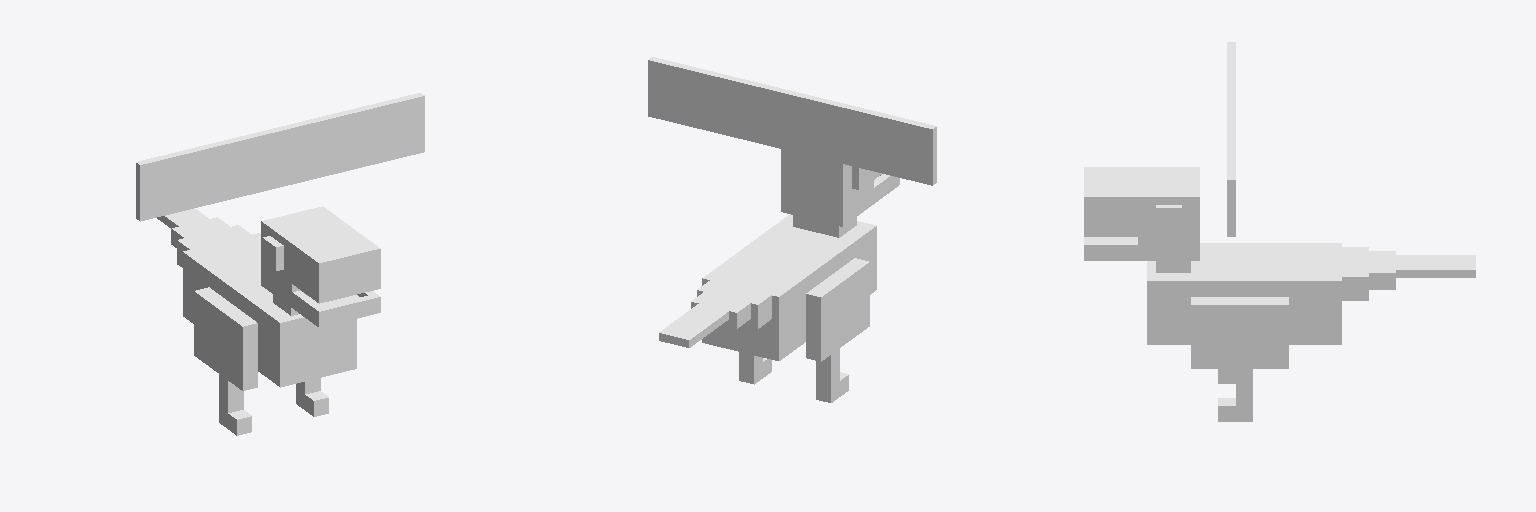
The model's file is dino-q0-c.obj.
3 renders of one model, left to right at view 1: azimuth 30°, elevation 25°; view 2: azimuth 150°, elevation 25°; view 3: azimuth 270°, elevation 25°, orthographic.
Parts seen in each view (by area): view 1: Matrix_8; view 2: Matrix_8; view 3: Matrix_8.
Boxes of the visible parts, box(x1,y1,x2,y2) form: Matrix_8: box(136, 93, 424, 435); Matrix_8: box(648, 57, 936, 402); Matrix_8: box(1084, 42, 1475, 421).
Bounding box in the file's own units: 37 × 36 × 44.